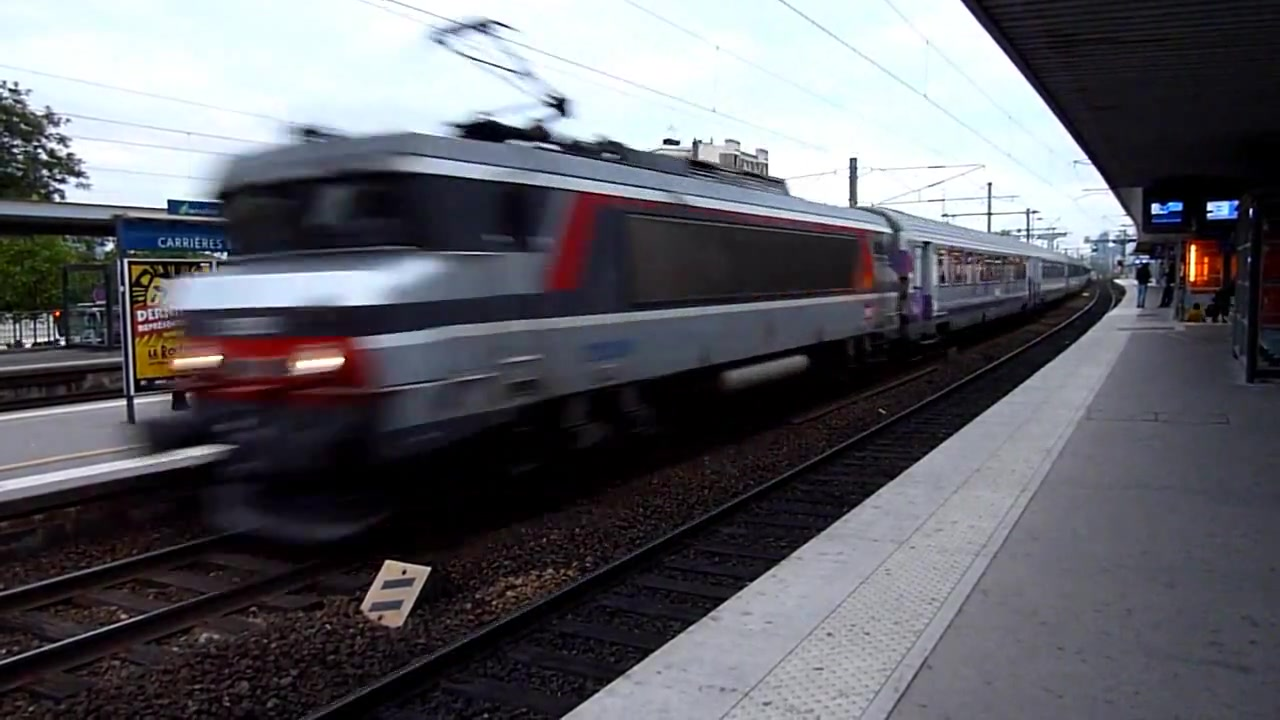train: (161, 119, 1098, 460)
